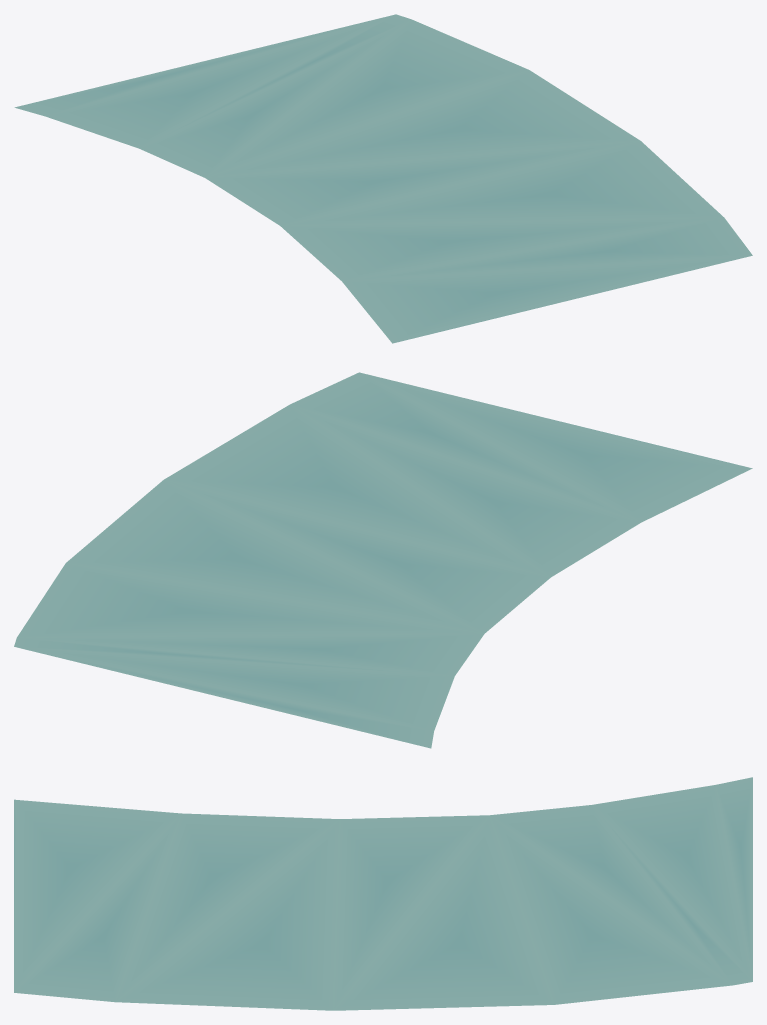
The model's file is water-14-2.glb.
The picture shows the model from 3 angles, top to bottom: view 1: azimuth 30°, elevation 25°; view 2: azimuth 150°, elevation 25°; view 3: azimuth 270°, elevation 25°; orthographic projection. The views are drawn at different scales.
Size of the model in its own units: 11.97 by 0 by 16.
